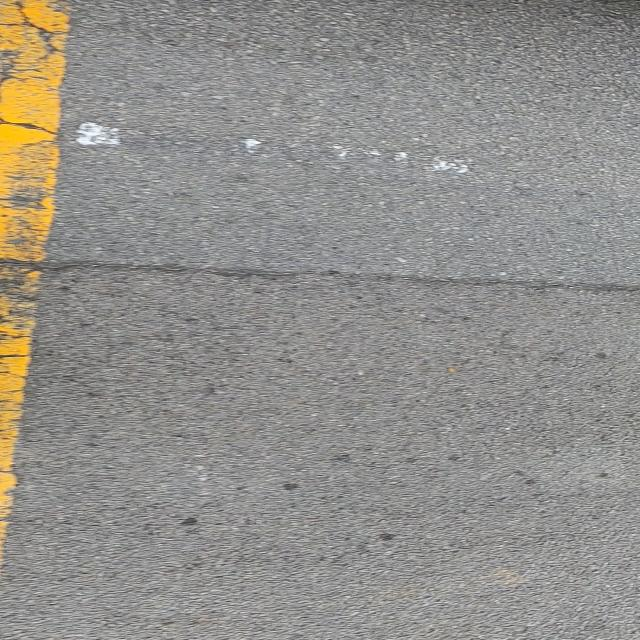Retak-Melintang: (0, 259, 640, 294)
